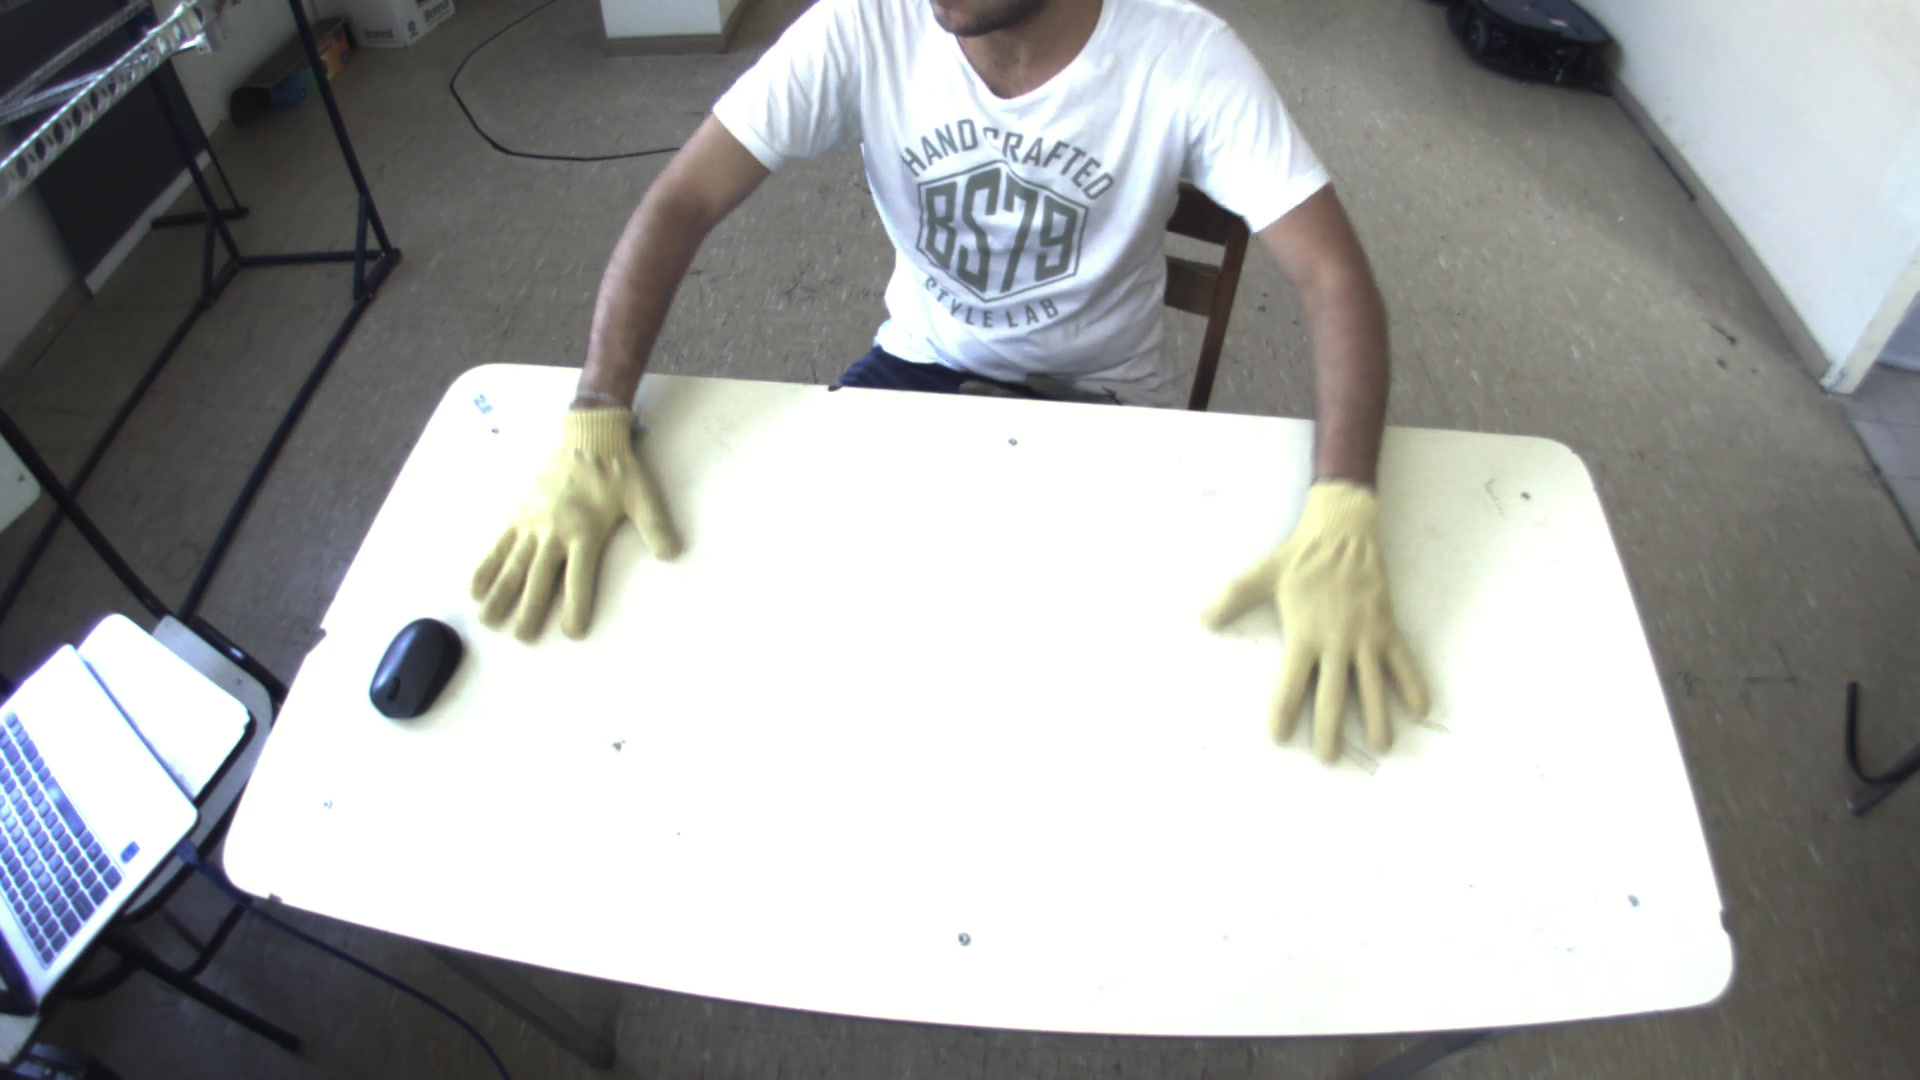hand: (1193, 467, 1455, 777), (456, 376, 694, 653)
